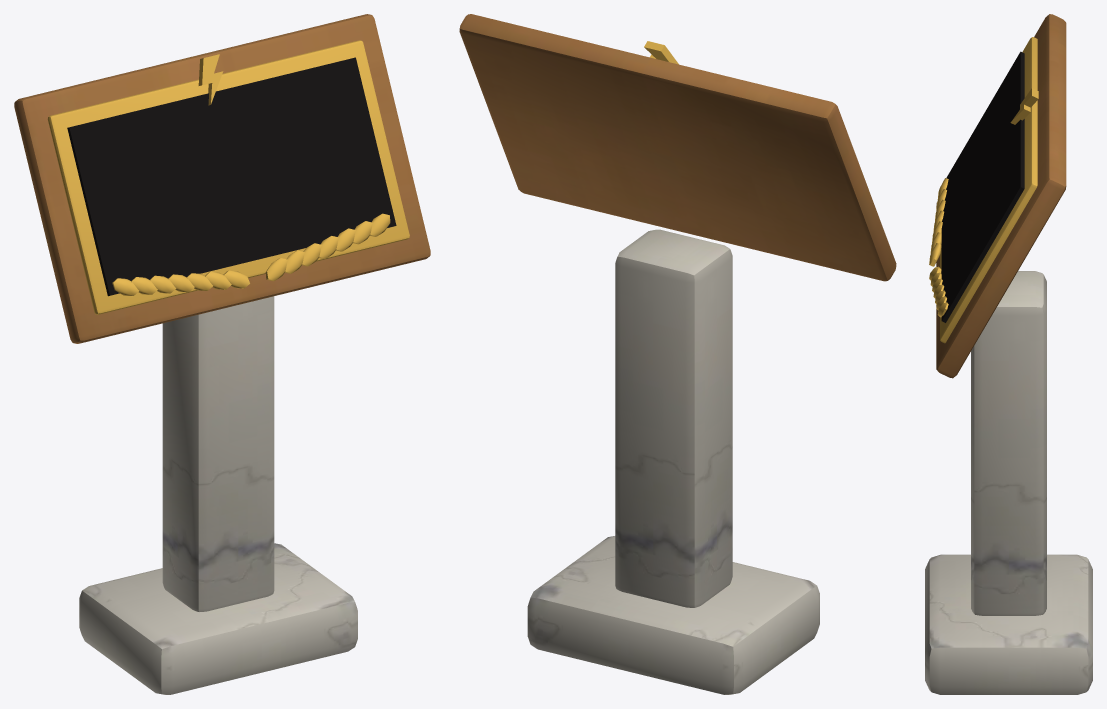
Rendered from decor_plaque_t1_bronze.glb.
3 renders of one model, left to right at view 1: azimuth 30°, elevation 25°; view 2: azimuth 150°, elevation 25°; view 3: azimuth 270°, elevation 25°, orthographic. The views are drawn at different scales.
Visible parts, largest first — view 1: marble, black_glaze, bronze, gold; view 2: marble, bronze; view 3: marble, black_glaze, bronze, gold.
Part boxes in pixels (left/top/right/bottom): marble: left=79, top=296, right=357, bottom=694; black_glaze: left=67, top=57, right=396, bottom=296; bronze: left=14, top=14, right=430, bottom=343; gold: left=47, top=40, right=409, bottom=314; marble: left=527, top=229, right=819, bottom=694; bronze: left=459, top=14, right=896, bottom=281; marble: left=925, top=271, right=1092, bottom=694; black_glaze: left=941, top=51, right=1024, bottom=322; bronze: left=936, top=14, right=1066, bottom=378; gold: left=929, top=37, right=1038, bottom=343.
Size of the model in its own units: 0.52 by 0.8142 by 0.22.
4 materials, 2 textured.
